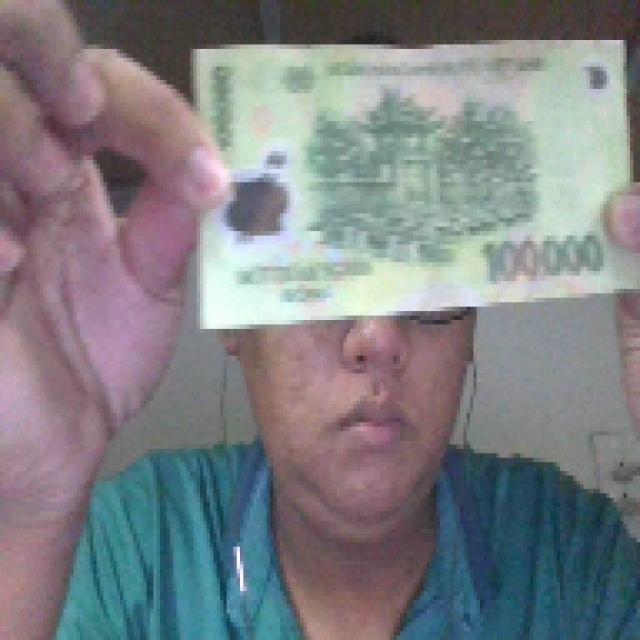100 000 VND: (187, 30, 637, 332)
